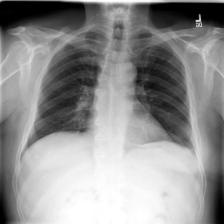normal: (19, 26, 200, 166)
